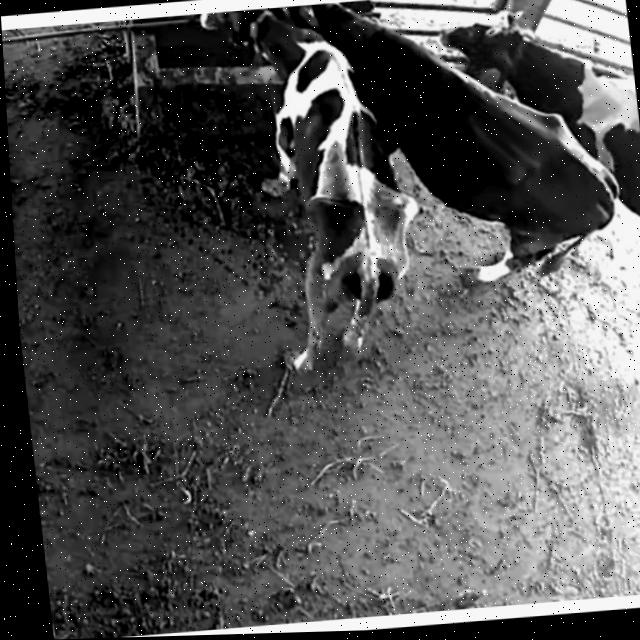drink: (291, 0, 437, 106)
